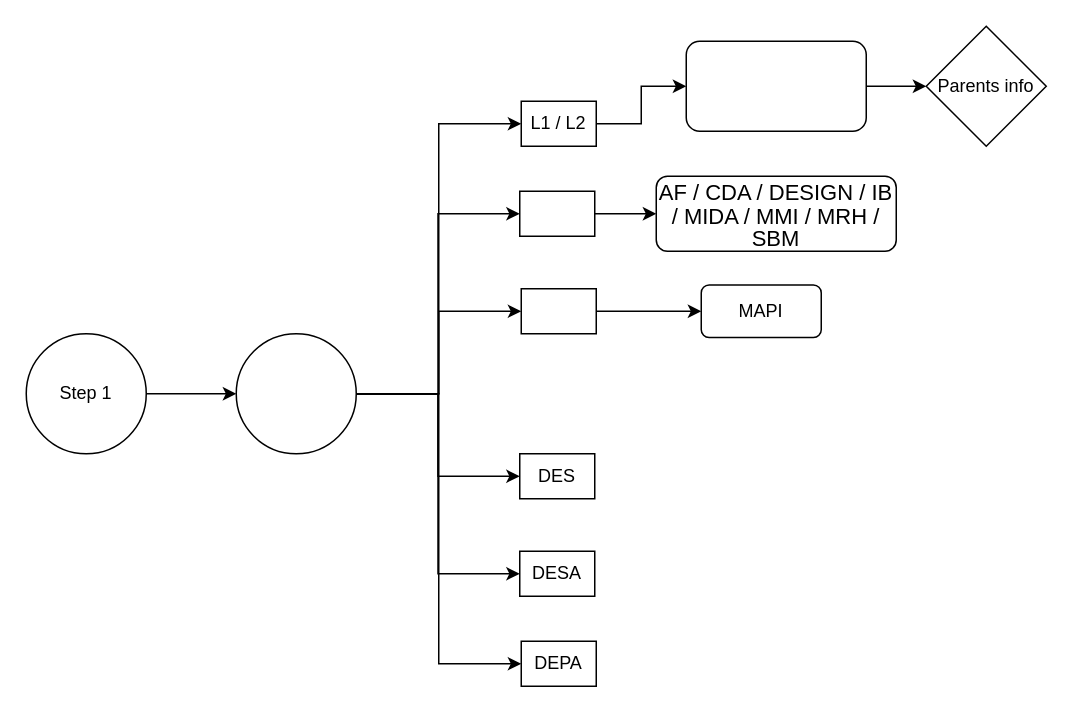
The diagram is 1073 pixels wide and 713 high, and some of its shapes have lost their labels. The shapes that lost their labels are listed below. From the top down, each one's box as (x1, y1, x2, y2) in pixels, then its label:
(685, 40, 866, 131): CF / CI / MC / MDE / RH
(518, 190, 595, 236): M1
(520, 287, 596, 334): M2
(235, 332, 356, 454): Step 2
